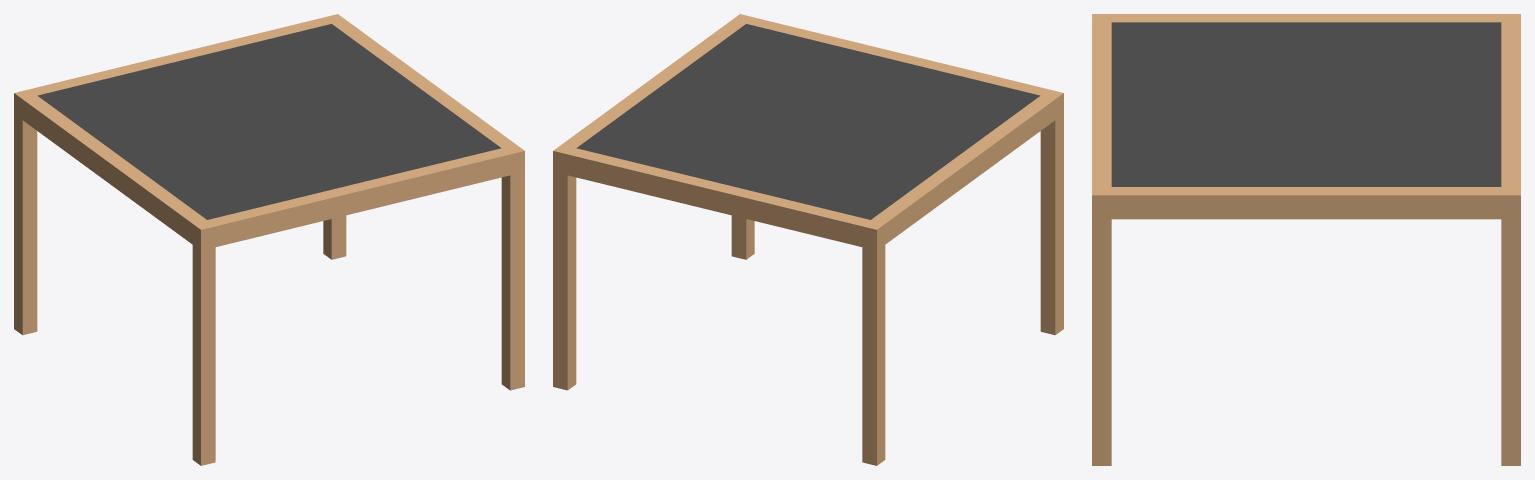
The model's file is table.fbx.
The picture shows the model from 3 angles, left to right: view 1: azimuth 30°, elevation 25°; view 2: azimuth 150°, elevation 25°; view 3: azimuth 270°, elevation 25°; orthographic projection. The views are drawn at different scales.
Parts seen in each view (by area): view 1: Cube; view 2: Cube; view 3: Cube.
Part boxes in pixels (x1,y1,x2,y2): Cube: (14,14,524,465); Cube: (553,14,1063,465); Cube: (1092,14,1520,465).
Bounding box in the file's own units: 110 × 76.63 × 110.
